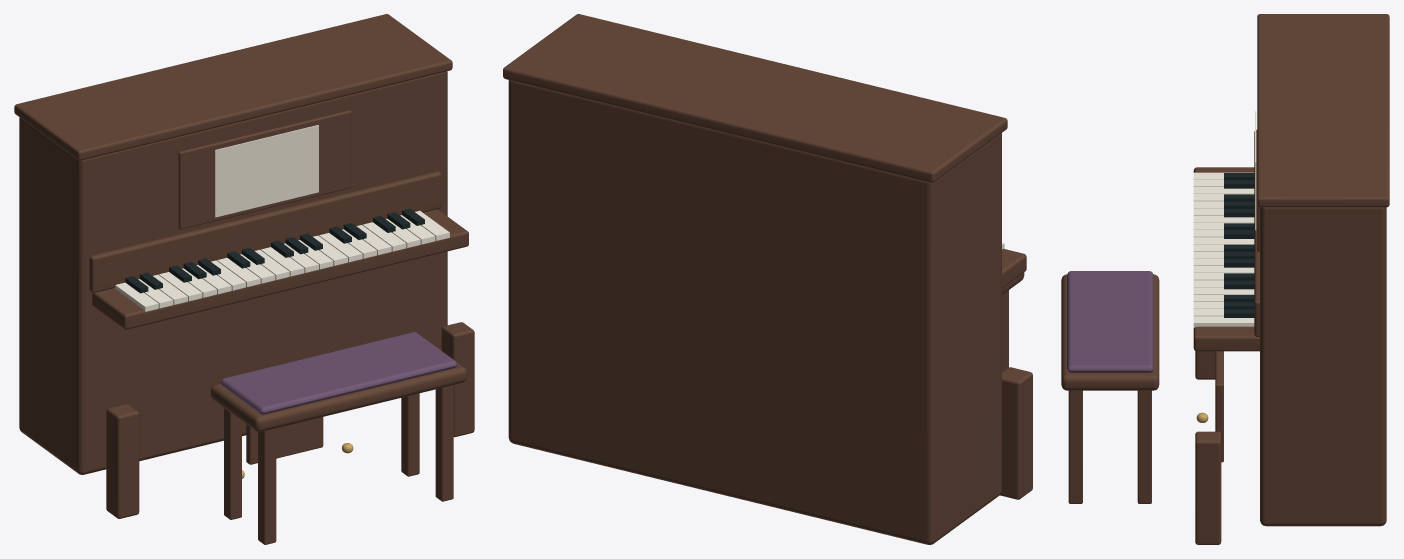
Rendered from piano.glb.
3 views of the same model, side by side, from view 1: azimuth 30°, elevation 25°; view 2: azimuth 150°, elevation 25°; view 3: azimuth 270°, elevation 25° (orthographic). The views are drawn at different scales.
Visible parts, largest first — view 1: Piano body, Piano lid, Fall board, Bench cushion, Sheet music, Music stand, Key bed, Piano bench, Piano leg, Piano leg.001, Bench leg.001, Bench leg.003 (+4 smaller); view 2: Piano body, Piano lid, Piano leg, Key bed; view 3: Piano body, Piano lid, Bench cushion, Piano bench, Piano leg.001, Key bed, Bench leg.002, Bench leg.003, Fall board, Pedal lyre, White key.020, Piano leg (+5 smaller).
Boxes of the visible parts, x1=… form: Piano body: x1=19, y1=71, x2=447, y2=474; Piano lid: x1=14, y1=14, x2=452, y2=160; Fall board: x1=89, y1=171, x2=441, y2=292; Bench cushion: x1=220, y1=332, x2=457, y2=414; Sheet music: x1=215, y1=125, x2=318, y2=217; Music stand: x1=178, y1=110, x2=351, y2=229; Key bed: x1=92, y1=209, x2=468, y2=329; Piano bench: x1=210, y1=362, x2=466, y2=431; Piano leg: x1=106, y1=404, x2=139, y2=518; Piano leg.001: x1=441, y1=322, x2=474, y2=437; Bench leg.001: x1=258, y1=428, x2=276, y2=544; Bench leg.003: x1=435, y1=385, x2=453, y2=501; Piano body: x1=508, y1=80, x2=1001, y2=544; Piano lid: x1=503, y1=14, x2=1007, y2=182; Piano leg: x1=1000, y1=367, x2=1032, y2=499; Key bed: x1=1002, y1=249, x2=1026, y2=287; Piano body: x1=1260, y1=207, x2=1386, y2=526; Piano lid: x1=1257, y1=14, x2=1389, y2=207; Bench cushion: x1=1067, y1=271, x2=1153, y2=372; Piano bench: x1=1061, y1=274, x2=1159, y2=390; Piano leg.001: x1=1195, y1=431, x2=1221, y2=544; Key bed: x1=1193, y1=167, x2=1259, y2=351; Bench leg.002: x1=1137, y1=390, x2=1151, y2=503; Bench leg.003: x1=1068, y1=390, x2=1082, y2=503; Fall board: x1=1254, y1=130, x2=1259, y2=336; Pedal lyre: x1=1215, y1=351, x2=1223, y2=462; White key.020: x1=1193, y1=316, x2=1254, y2=327; Piano leg: x1=1195, y1=351, x2=1215, y2=379.
Bounding box in the file's own units: 1.52 × 1.35 × 1.14.
